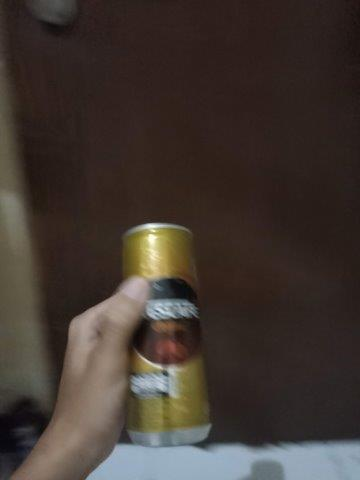kaleng: (123, 223, 213, 448)
